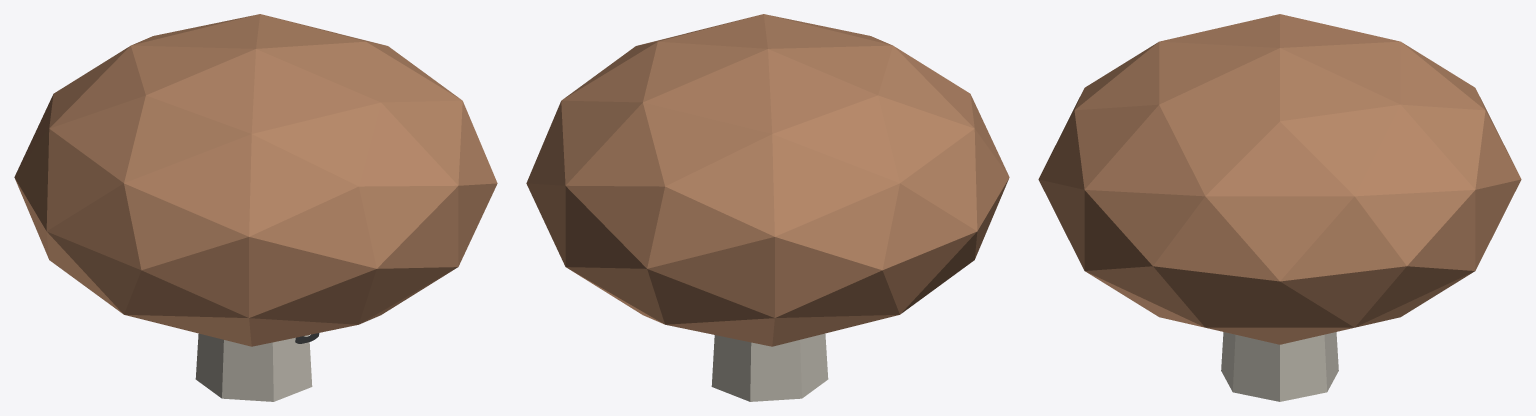
Rendered from trichaleurina-javanica.glb.
3 views of the same model, side by side, from view 1: azimuth 30°, elevation 25°; view 2: azimuth 150°, elevation 25°; view 3: azimuth 270°, elevation 25° (orthographic).
Parts seen in each view (by area): view 1: cap, stalk; view 2: cap, stalk; view 3: cap, stalk.
Boxes of the visible parts, x1,y1,x2,y2 form: cap: (14, 14, 497, 346); stalk: (195, 333, 312, 401); cap: (526, 14, 1009, 346); stalk: (711, 333, 828, 401); cap: (1038, 14, 1521, 344); stalk: (1221, 332, 1338, 401).
Size of the model in its own units: 0.4 by 0.3 by 0.4.
